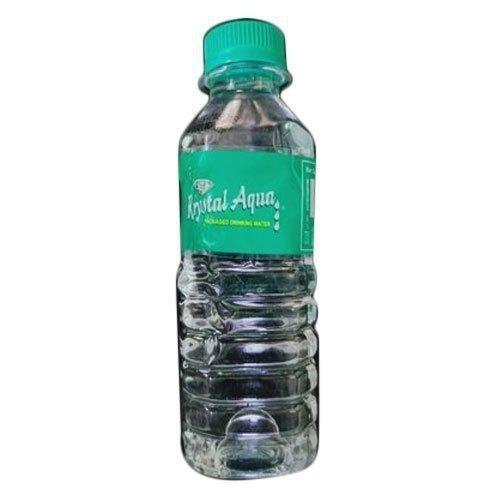bottle-plastic: (172, 14, 323, 484)
